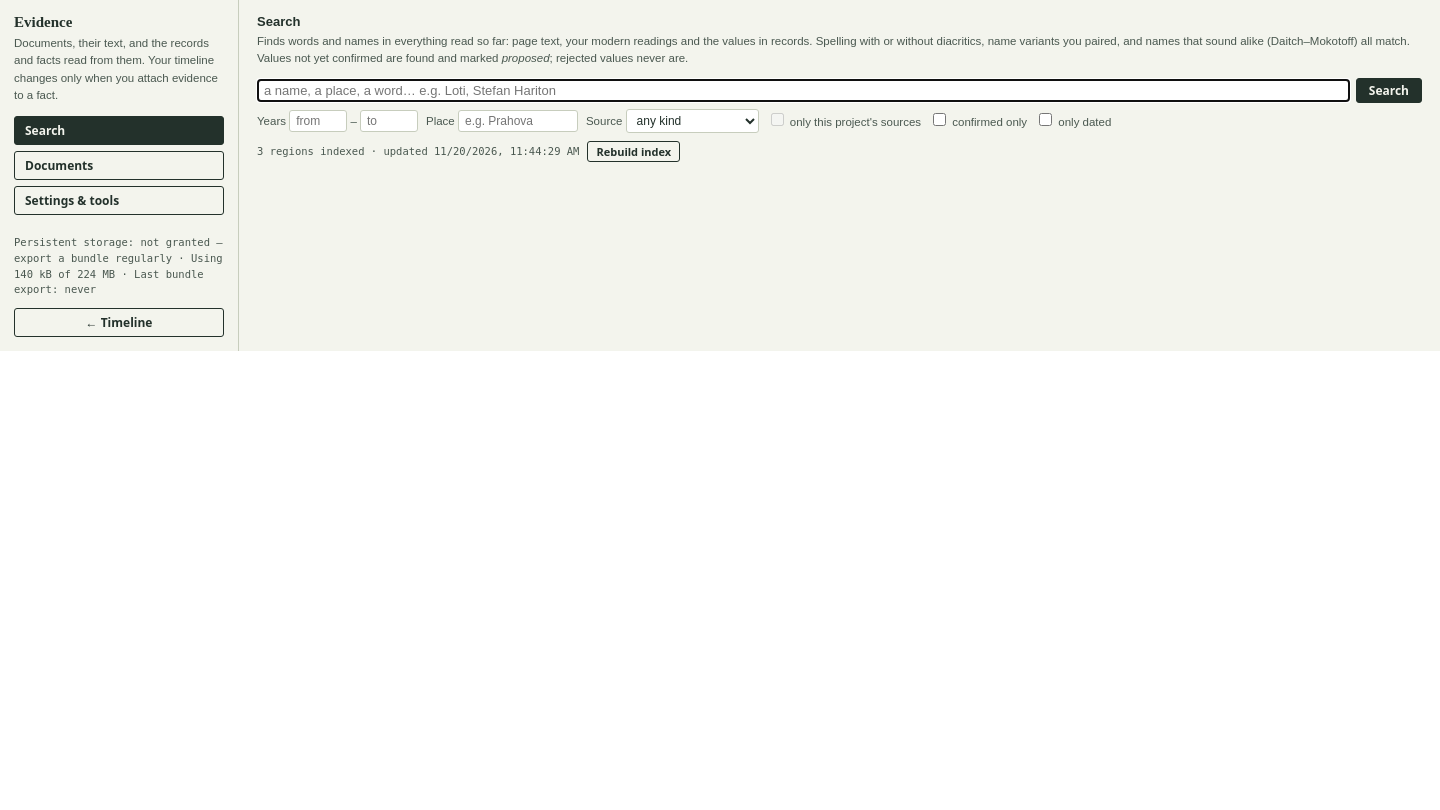
it: Search section (P7.T4) › on the Evidence page, Search is the first section and a hit opens the page workspace on its page and box
This screenshot has width=1440, height=810.
Expected: the 2nd button "Search" is shown, [14,116,224,145]
Expected: the element with test id "index-status" shows "regions indexed", [257,140,680,162]
In the field named "Search for": (803, 90) [257,78,1350,102], type "Cristescu"
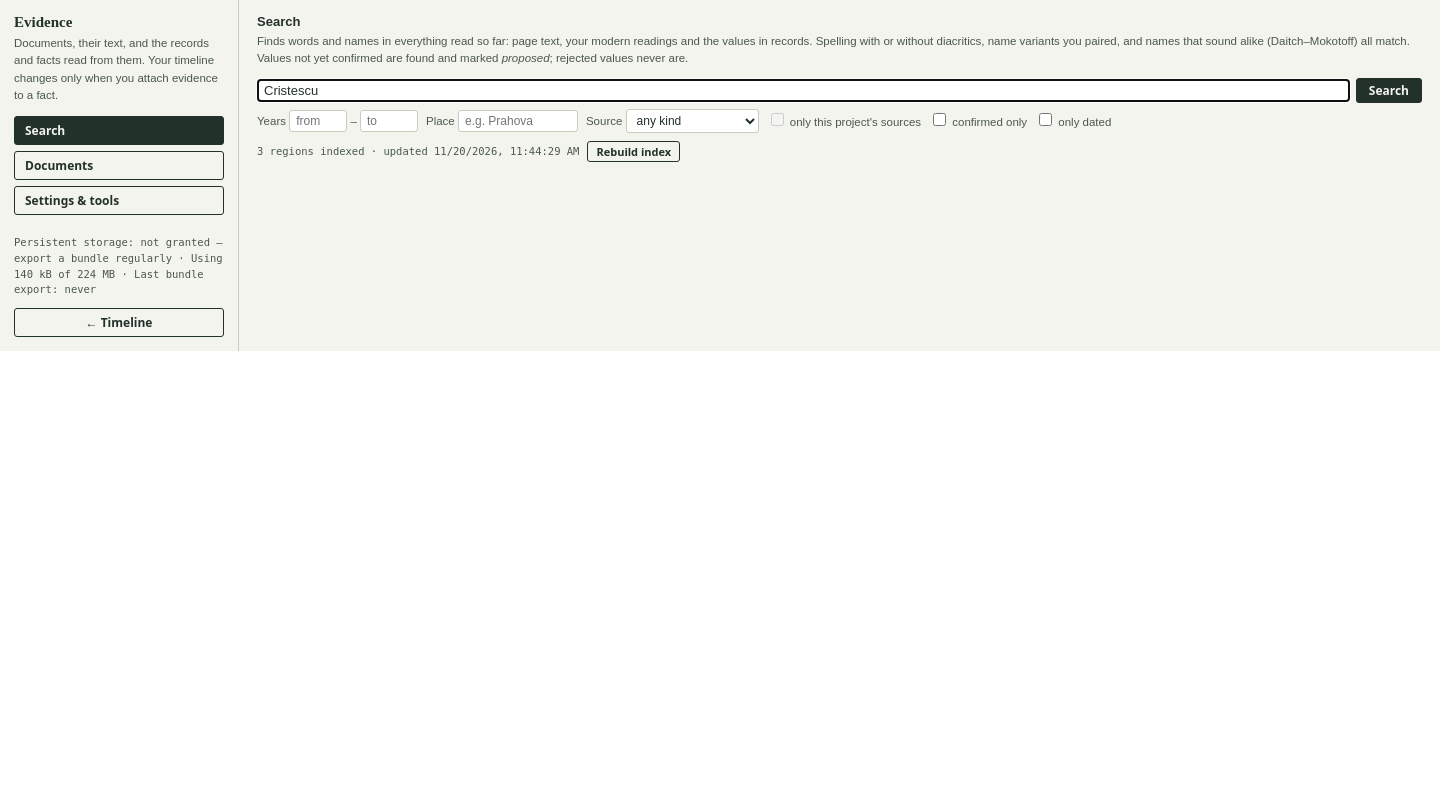
Click the 1st button "Search": (1389, 90) [1356,78,1422,102]
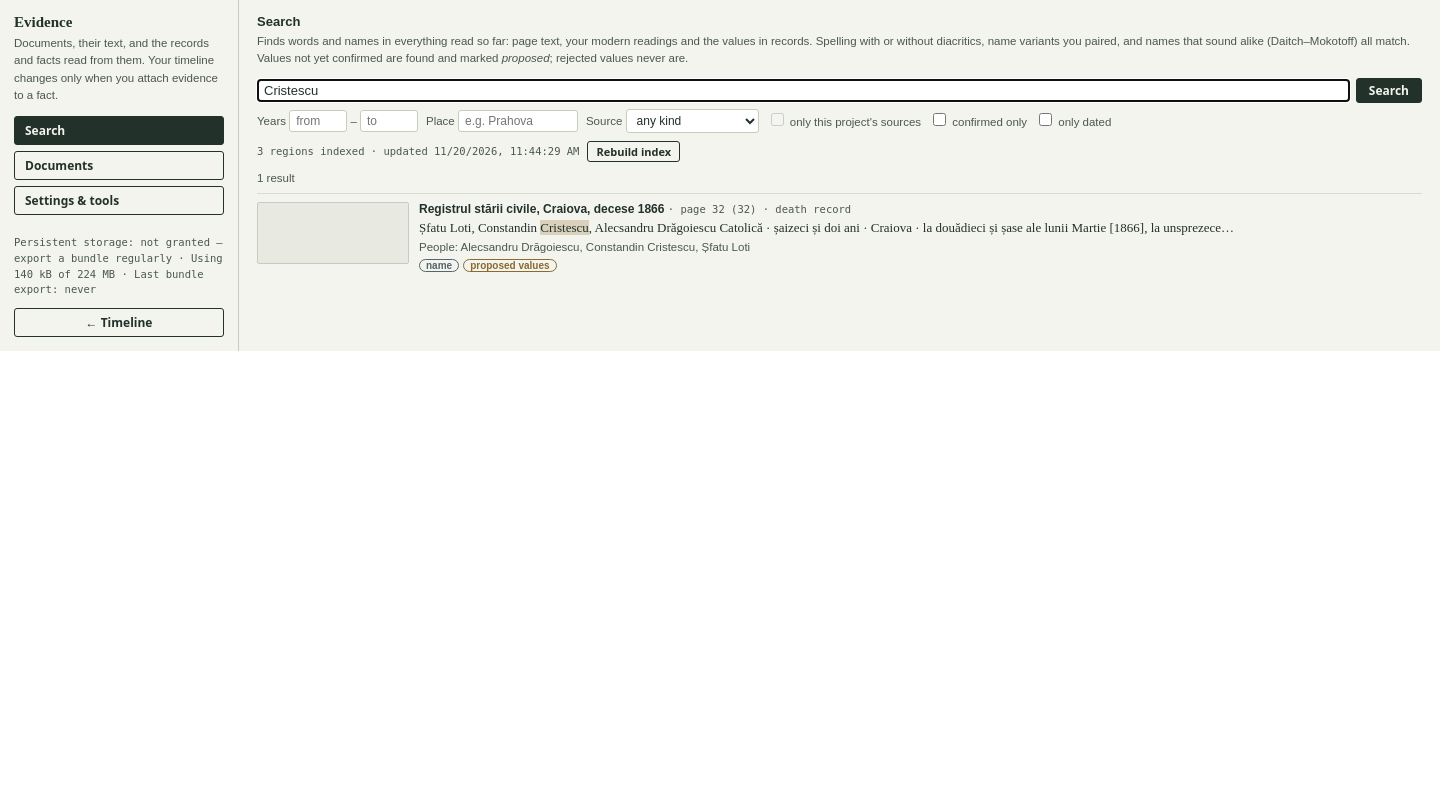
Click the button with test id "search-hit": (840, 236) [257,193,1422,280]
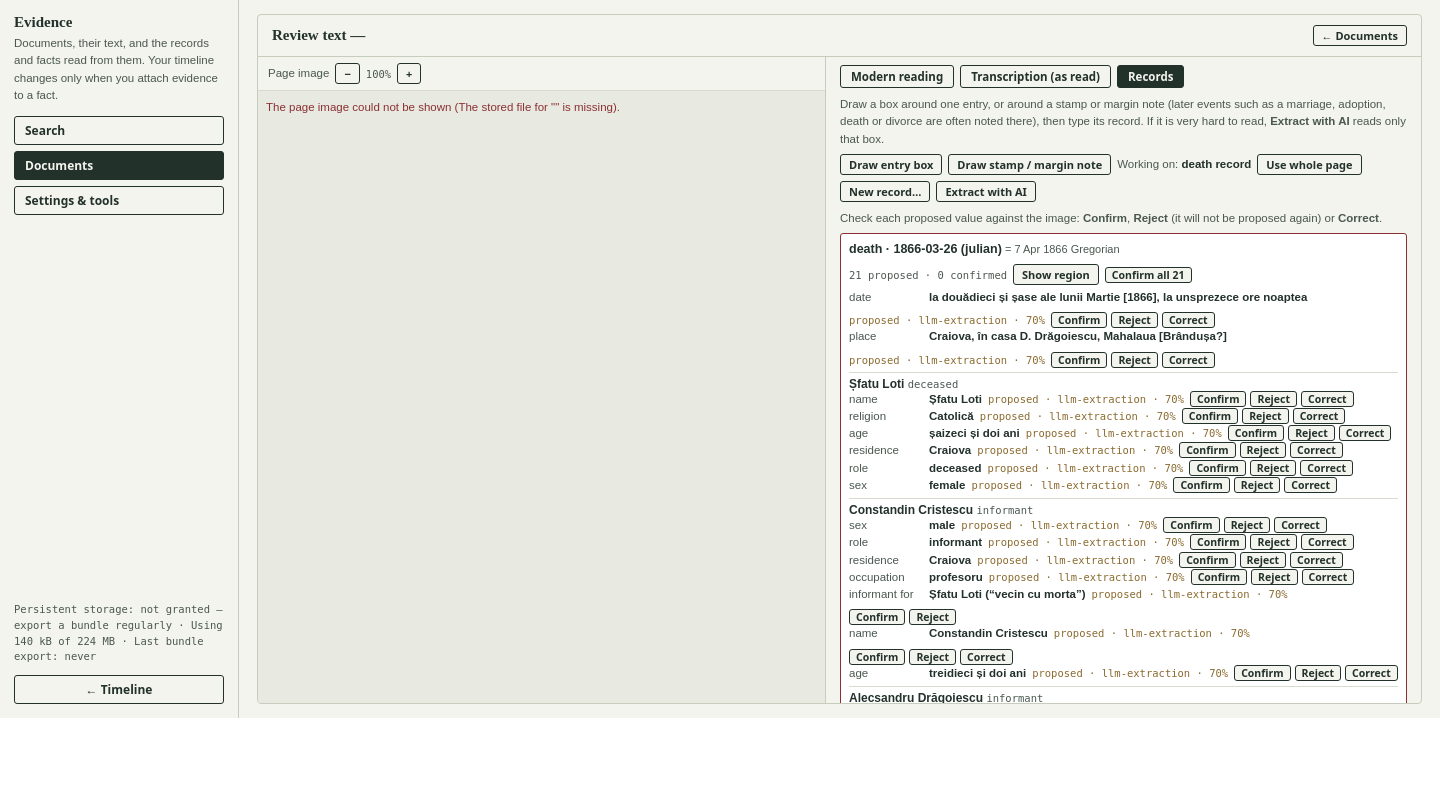
Result: the text "Working on: death record" is shown at [1117,156,1251,173]
